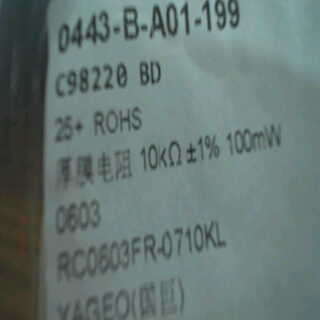10kR: (135, 138, 183, 178)
